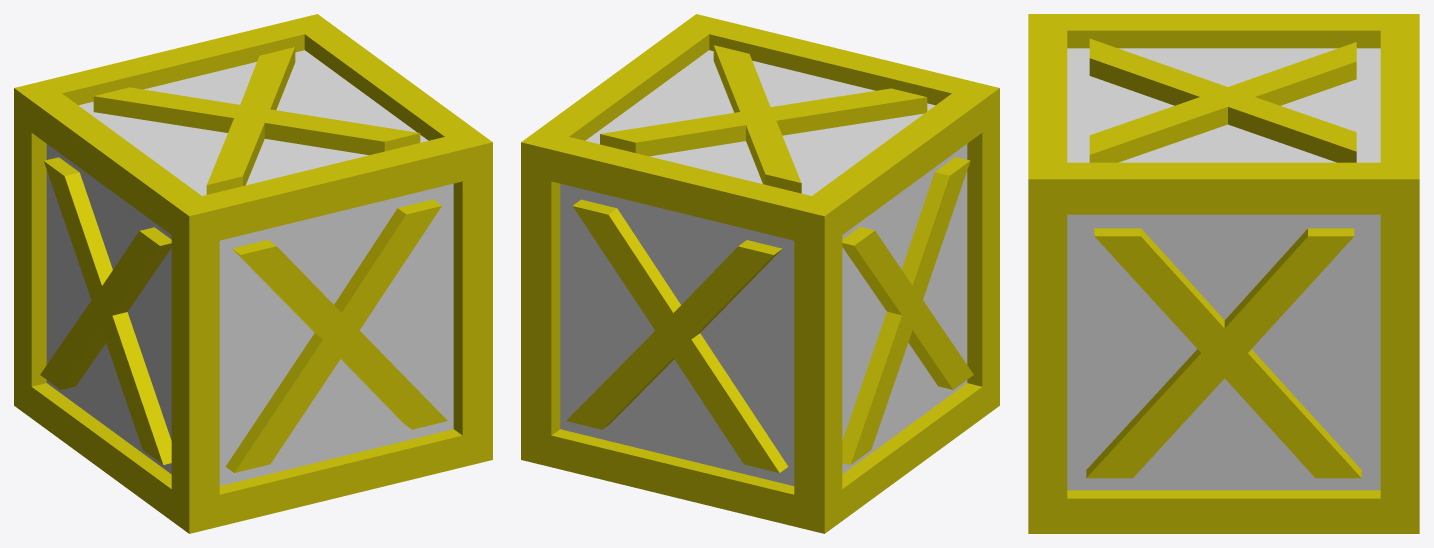
The picture shows the model from 3 angles, left to right: view 1: azimuth 30°, elevation 25°; view 2: azimuth 150°, elevation 25°; view 3: azimuth 270°, elevation 25°; orthographic projection. The views are drawn at different scales.
Visible parts, largest first — view 1: Cube, Text.001, Text.002, Text; view 2: Cube, Text.004, Text.002, Text; view 3: Cube, Text.003, Text.
Boxes of the visible parts, x1,y1,x2,y2 form: Cube: (14,14,492,533); Text.001: (225,199,447,472); Text.002: (40,157,171,464); Text: (93,47,420,194); Cube: (521,14,999,533); Text.004: (566,199,788,472); Text.002: (842,157,973,464); Text: (600,45,927,193); Cube: (1028,14,1419,533); Text.003: (1086,228,1361,478); Text: (1089,38,1356,162).
Bounding box in the file's own units: 200 × 200 × 200.
